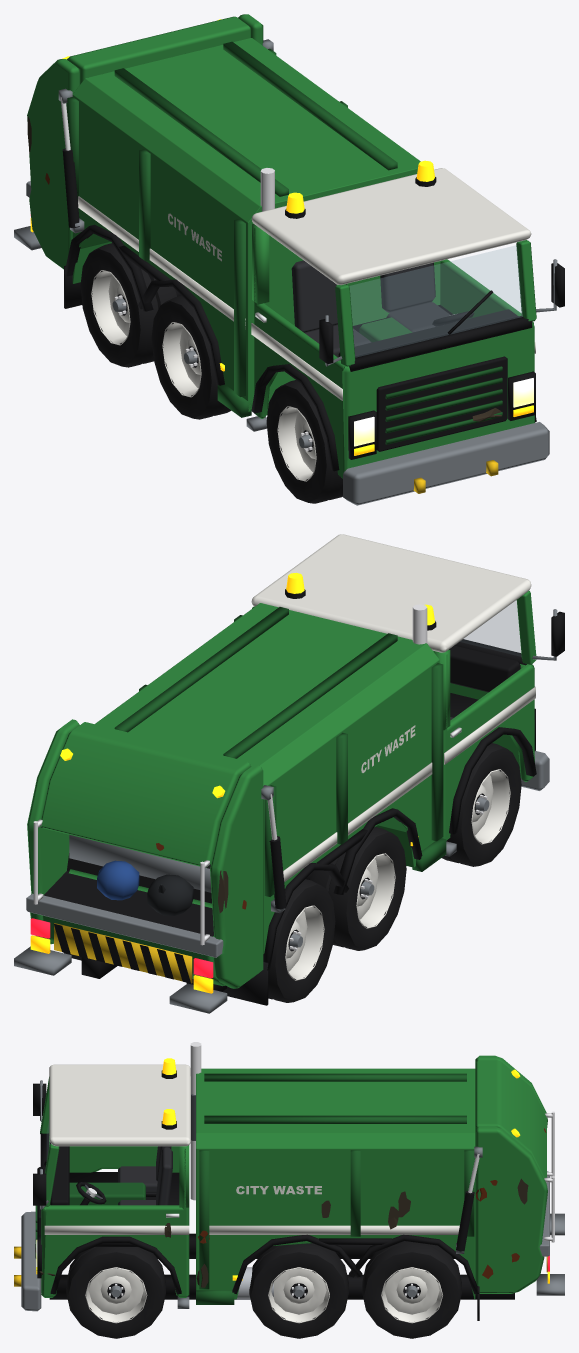
The model's file is garbage_truck.glb.
3 renders of one model, top to bottom at view 1: azimuth 30°, elevation 25°; view 2: azimuth 150°, elevation 25°; view 3: azimuth 270°, elevation 25°, orthographic. The views are drawn at different scales.
Parts seen in each view (by area): view 1: Body, WheelRR, WheelFR, WheelMR; view 2: Body, WheelMR, WheelFR, WheelRR; view 3: Body, WheelRL, WheelML, WheelFL, Steering.
Boxes of the visible parts, x1=… form: Body: x1=14, y1=14, x2=564, y2=505; WheelRR: x1=80, y1=243, x2=176, y2=367; WheelFR: x1=266, y1=380, x2=342, y2=503; WheelMR: x1=151, y1=295, x2=231, y2=419; Body: x1=14, y1=534, x2=564, y2=1013; WheelMR: x1=310, y1=827, x2=406, y2=950; WheelFR: x1=442, y1=743, x2=521, y2=866; WheelRR: x1=268, y1=879, x2=335, y2=1002; Body: x1=14, y1=1042, x2=564, y2=1320; WheelRL: x1=362, y1=1241, x2=461, y2=1338; WheelML: x1=249, y1=1243, x2=348, y2=1338; WheelFL: x1=66, y1=1247, x2=165, y2=1338; Steering: x1=76, y1=1182, x2=106, y2=1204.
Bounding box in the file's own units: 1.31 × 1.52 × 3.32.
